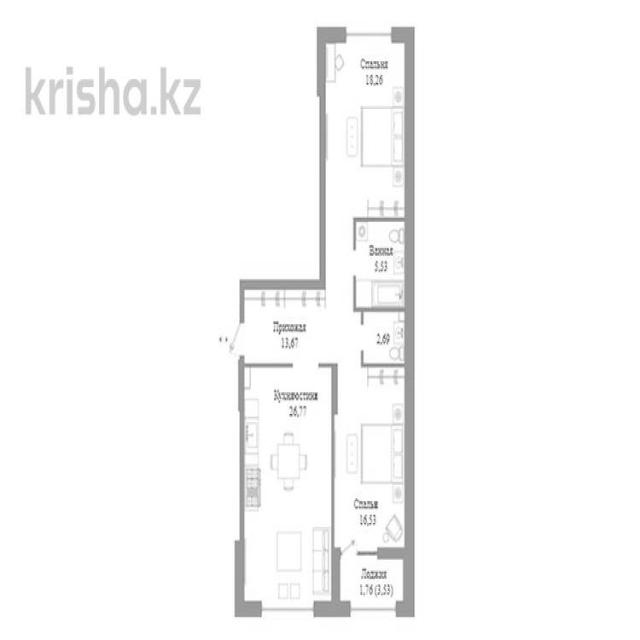balcony: (340, 556, 404, 603)
bathroom: (356, 223, 407, 309), (363, 311, 405, 364)
hallway: (244, 219, 361, 364)
kitchen: (244, 366, 331, 604)
living_room: (325, 41, 407, 217), (336, 368, 405, 548)
